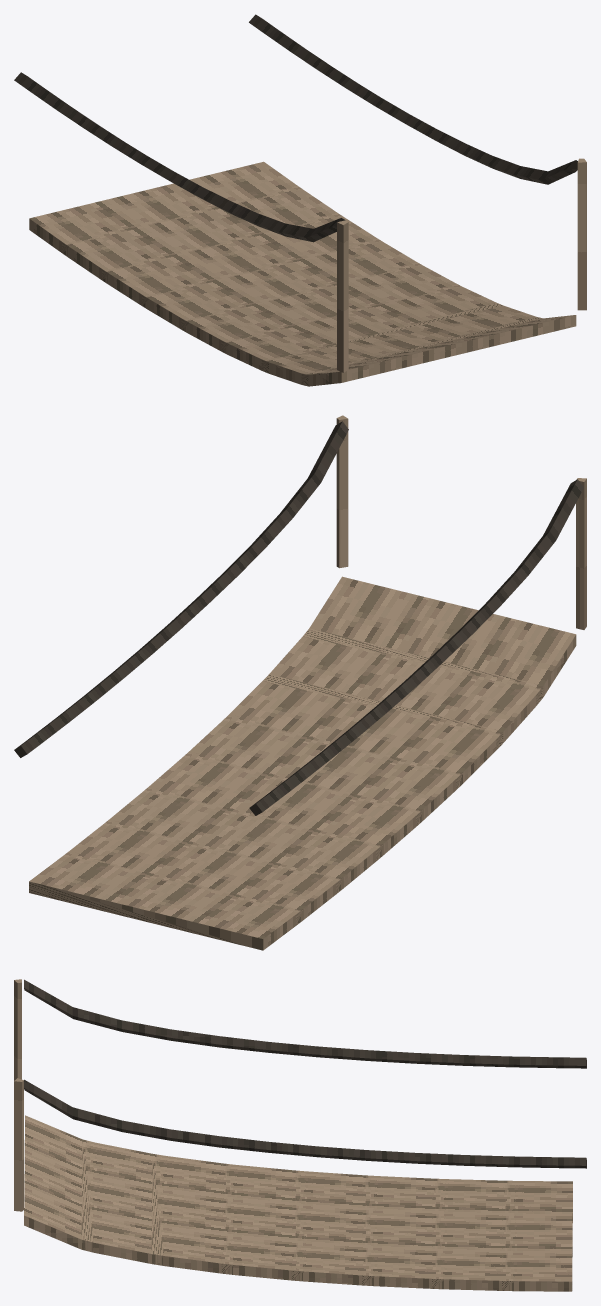
The model's file is BridgeStartCollision.fbx.
3 views of the same model, one above another, from view 1: azimuth 30°, elevation 25°; view 2: azimuth 150°, elevation 25°; view 3: azimuth 270°, elevation 25° (orthographic). The views are drawn at different scales.
Visible parts, largest first — view 1: bridge_start_collision; view 2: bridge_start_collision; view 3: bridge_start_collision.
Boxes of the visible parts, left/top/right/bottom form: bridge_start_collision: left=14, top=14, right=586, bottom=386; bridge_start_collision: left=14, top=415, right=586, bottom=950; bridge_start_collision: left=14, top=979, right=586, bottom=1291.
Size of the model in its own units: 0.951 by 0.8866 by 2.16.
